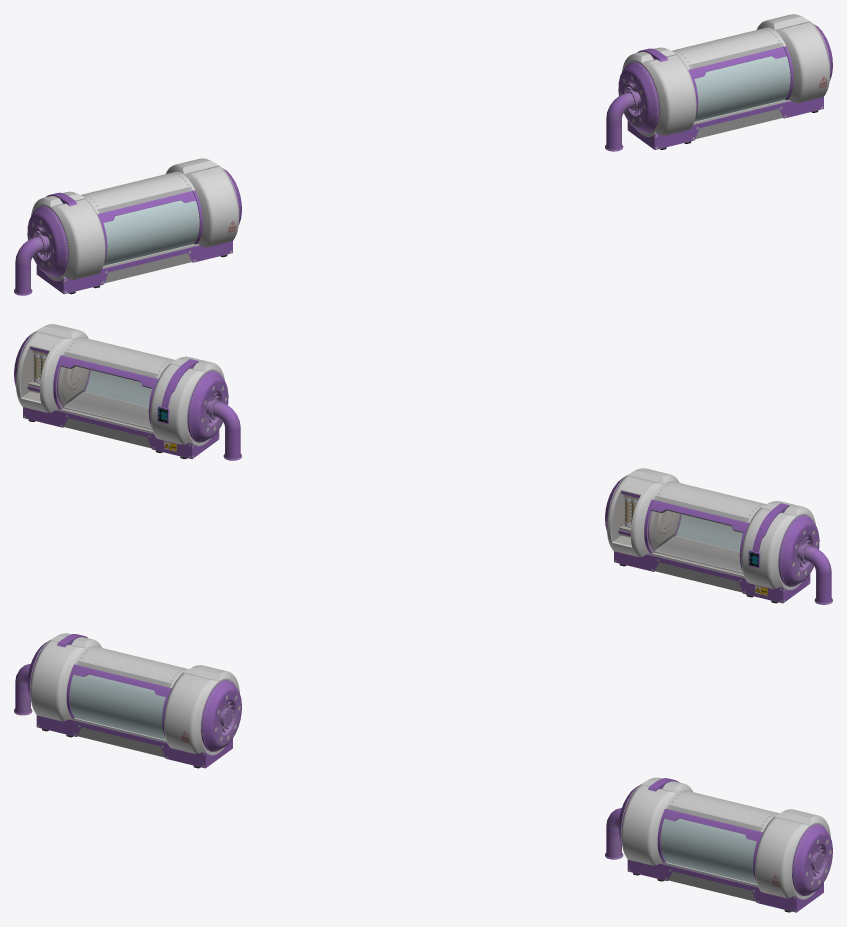
File: CultivaterCell.fbx
3 renders of one model, top to bottom at view 1: azimuth 30°, elevation 25°; view 2: azimuth 150°, elevation 25°; view 3: azimuth 330°, elevation 25°, orthographic.
Parts seen in each view (by area): view 1: CultivaterCell_Variant (×2); view 2: CultivaterCell_Variant (×2); view 3: CultivaterCell_Variant (×2).
Boxes of the visible parts, x1=… form: CultivaterCell_Variant (×2): x1=14, y1=14, x2=832, y2=295; CultivaterCell_Variant (×2): x1=14, y1=324, x2=832, y2=604; CultivaterCell_Variant (×2): x1=14, y1=633, x2=832, y2=912.
Size of the model in its own units: 10236 by 1003 by 1080.
